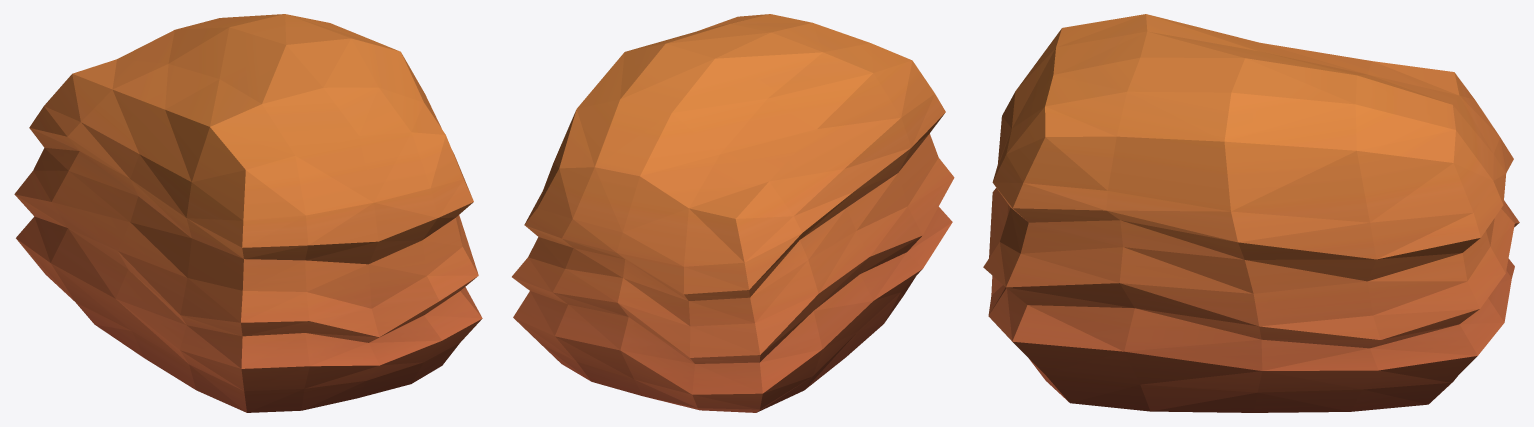
Rendered from bush_round.glb.
The picture shows the model from 3 angles, left to right: view 1: azimuth 30°, elevation 25°; view 2: azimuth 150°, elevation 25°; view 3: azimuth 270°, elevation 25°; orthographic projection. The views are drawn at different scales.
Parts seen in each view (by area): view 1: bush_round; view 2: bush_round; view 3: bush_round.
Part boxes in pixels (box(x1,y1,x2,y2)): bush_round: box(14, 14, 482, 412); bush_round: box(512, 14, 954, 412); bush_round: box(983, 14, 1519, 412).
Size of the model in its own units: 1.07 by 0.9 by 1.44.
Materials: 1 (1 with a texture image).
